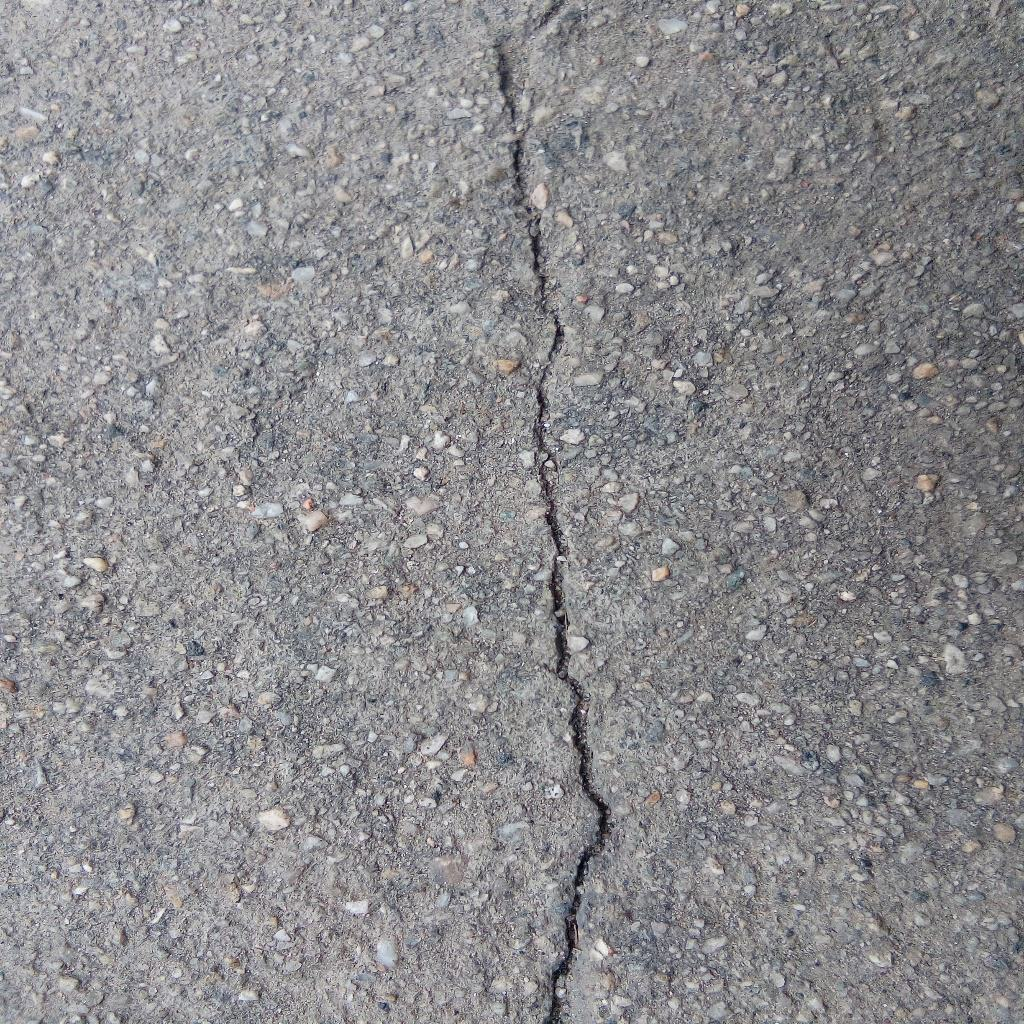Crack: (495, 1, 612, 1024)
